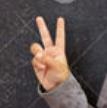front: (28, 14, 71, 89)
